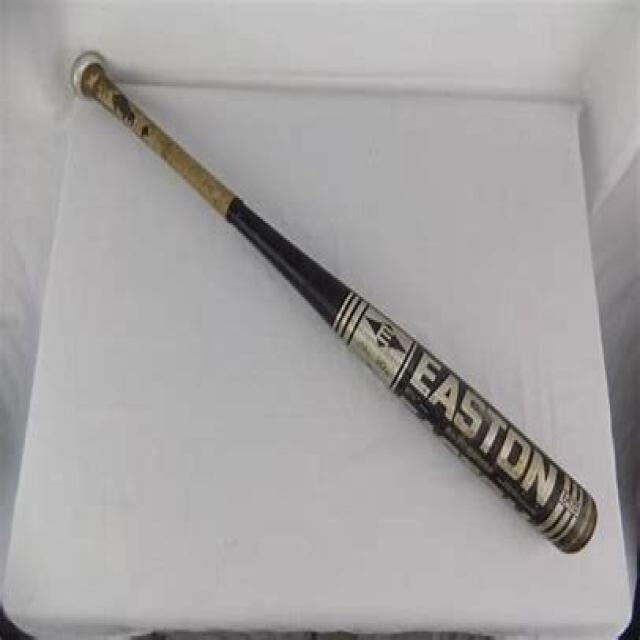bat: (68, 47, 607, 562)
